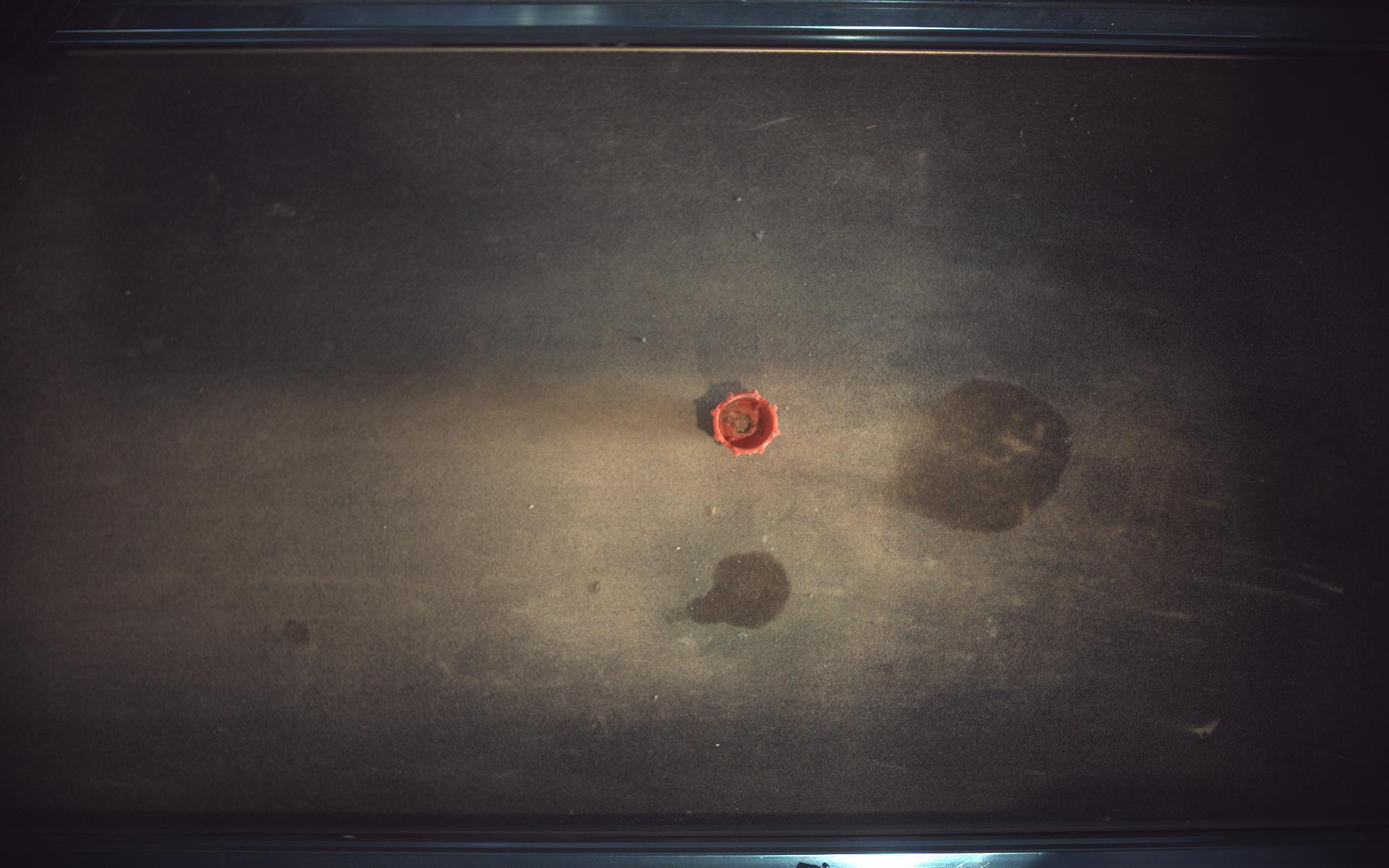general_w: (712, 391, 781, 456)
